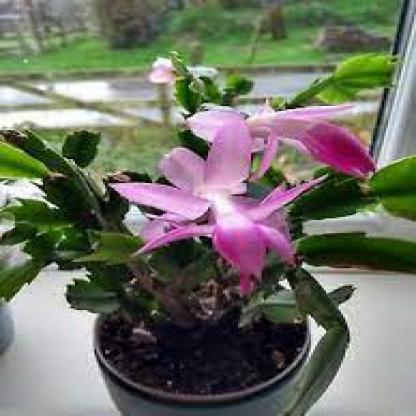Aglonema: (47, 76, 416, 367)
